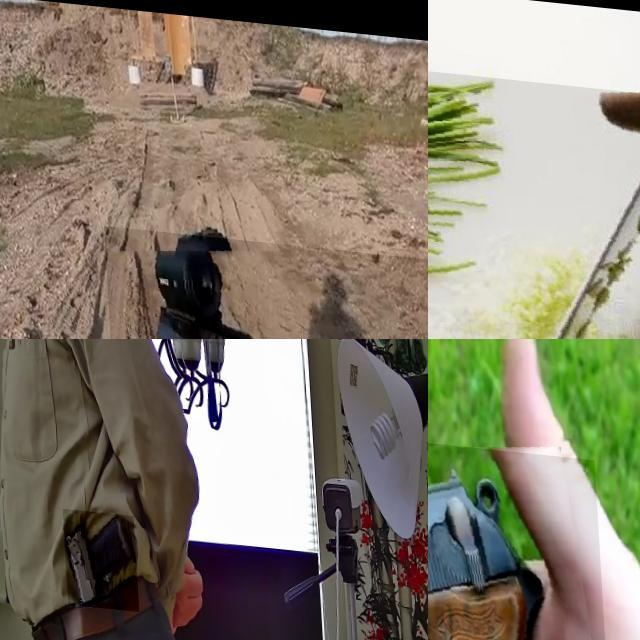-: (428, 58, 640, 339)
gun-knife-thesis - v11 Yolov5 augmented: (428, 414, 640, 640), (101, 221, 428, 339), (58, 504, 133, 606)
